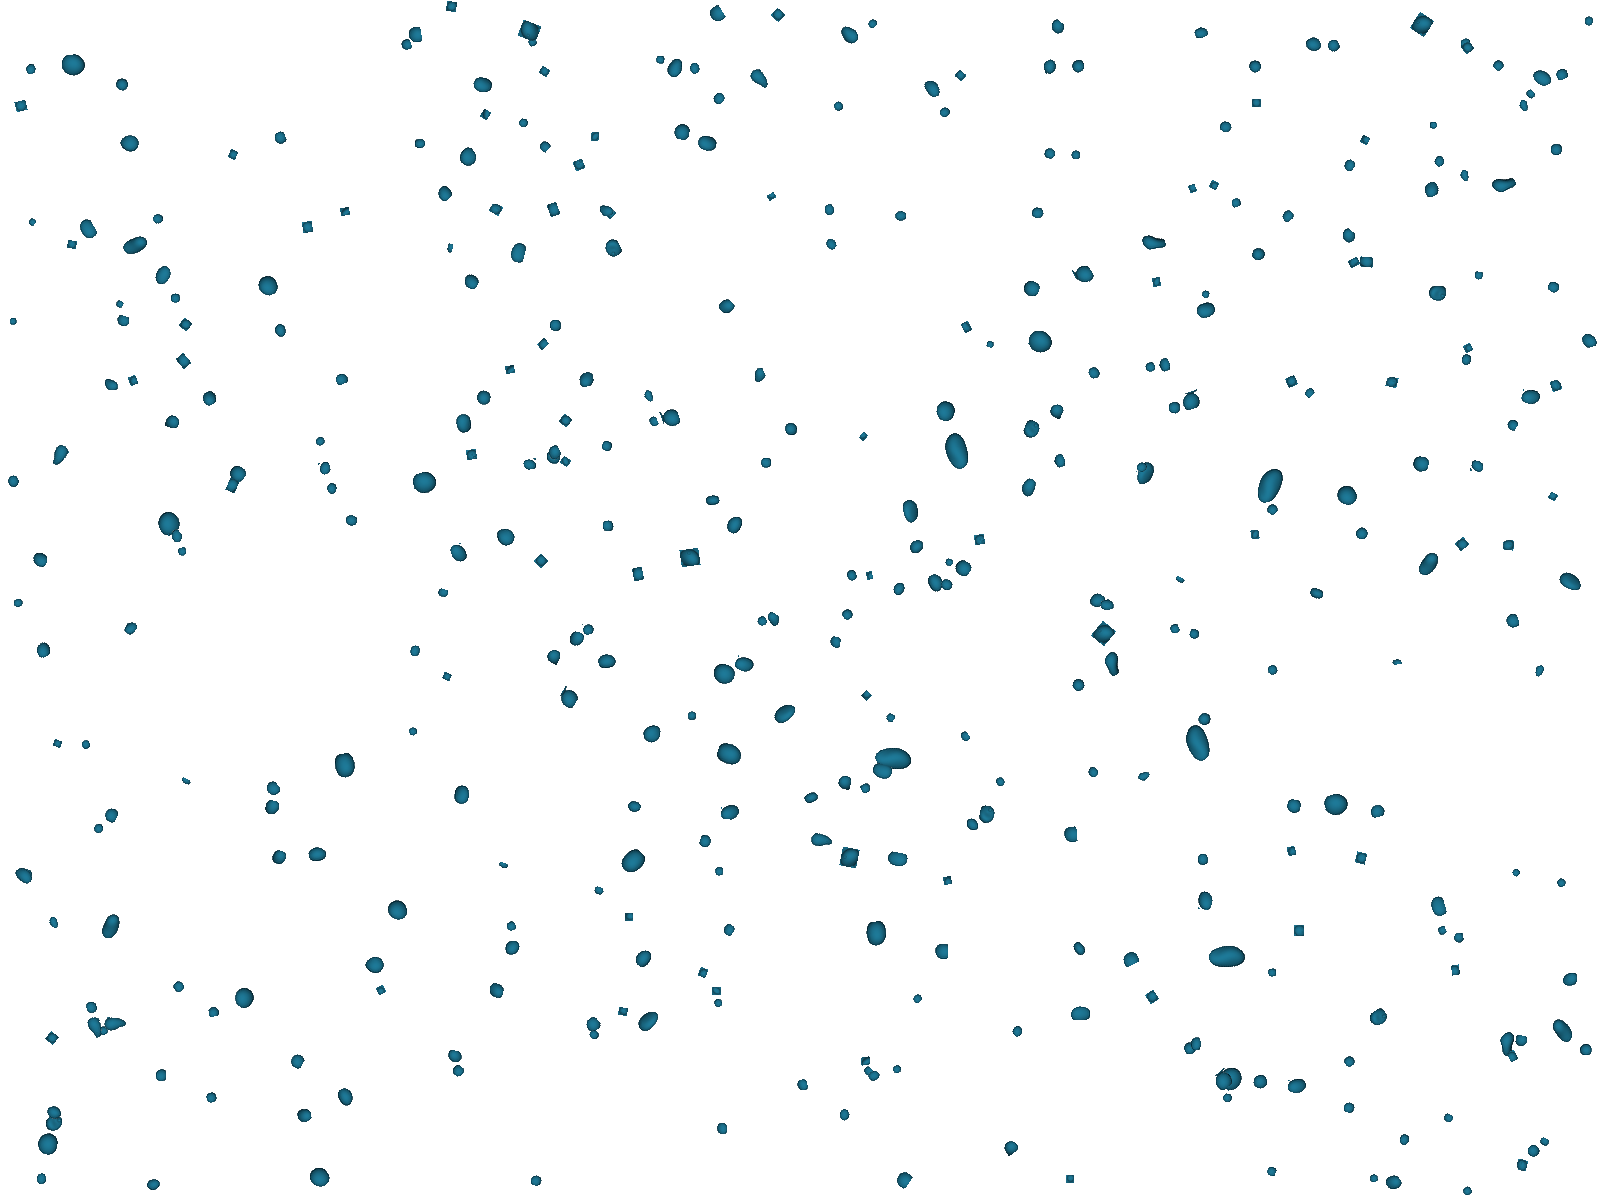drop: (1175, 720, 1220, 765), (934, 429, 979, 473), (1204, 935, 1250, 978), (872, 737, 916, 779), (1254, 466, 1286, 504), (120, 228, 154, 262), (617, 845, 649, 879), (1545, 1013, 1579, 1045), (1216, 1063, 1247, 1095), (154, 507, 185, 539), (228, 981, 260, 1012), (409, 468, 441, 498), (302, 1162, 334, 1192), (1322, 790, 1352, 821), (894, 495, 925, 526), (380, 895, 411, 925), (1330, 480, 1361, 511), (252, 271, 281, 300), (714, 740, 745, 768), (708, 661, 738, 688), (930, 396, 959, 424), (1417, 547, 1443, 579), (362, 950, 389, 978), (455, 144, 483, 171), (117, 129, 144, 158), (1100, 649, 1126, 678), (147, 262, 175, 289), (661, 54, 688, 82), (1090, 620, 1117, 647), (333, 751, 358, 780), (1489, 171, 1518, 197), (334, 1084, 360, 1111), (923, 570, 950, 596), (630, 944, 656, 971), (1209, 1066, 1236, 1093), (1409, 11, 1435, 38), (837, 21, 862, 49), (74, 216, 100, 243), (60, 53, 87, 78), (1529, 63, 1555, 89), (772, 701, 797, 727), (1133, 460, 1158, 487), (42, 1111, 67, 1137), (1364, 1006, 1391, 1031), (556, 684, 581, 711), (747, 66, 772, 92), (494, 524, 519, 550), (1071, 262, 1096, 287), (1497, 1030, 1519, 1058), (722, 511, 746, 536), (600, 234, 624, 260), (732, 652, 757, 676), (517, 19, 542, 43), (866, 920, 888, 947), (37, 1129, 59, 1156), (889, 1167, 913, 1191), (1117, 945, 1141, 969), (1558, 570, 1582, 594), (226, 463, 249, 487), (1020, 418, 1044, 442), (1017, 476, 1041, 500), (1028, 332, 1053, 354), (1193, 299, 1218, 321), (869, 761, 894, 784), (48, 442, 71, 468), (102, 911, 122, 939), (637, 1010, 660, 1034), (13, 863, 35, 887), (1179, 389, 1203, 412), (659, 406, 682, 430), (1426, 894, 1448, 919), (884, 850, 910, 871), (1140, 232, 1167, 252), (704, 4, 727, 26), (951, 557, 974, 580), (261, 778, 283, 800), (1337, 226, 1359, 248), (1046, 16, 1068, 39), (306, 842, 330, 863), (506, 239, 528, 263), (1519, 386, 1543, 407), (449, 541, 470, 565), (84, 1015, 105, 1040), (596, 649, 619, 671), (641, 724, 663, 746), (1087, 590, 1109, 613), (976, 804, 998, 827), (839, 846, 860, 868), (454, 411, 474, 435), (922, 76, 942, 100), (809, 831, 834, 850), (1020, 279, 1042, 300), (286, 1050, 307, 1071), (1303, 34, 1324, 55), (582, 1013, 603, 1035), (543, 442, 564, 464), (433, 183, 455, 204), (679, 547, 700, 568), (695, 134, 719, 153), (1196, 889, 1214, 913), (100, 804, 121, 824), (1579, 329, 1599, 350), (716, 296, 737, 316), (471, 76, 494, 95), (1245, 55, 1265, 76), (112, 74, 132, 95), (763, 610, 784, 630), (1250, 1071, 1270, 1092), (461, 272, 481, 292), (33, 640, 53, 661), (1383, 1172, 1403, 1192), (1286, 1076, 1308, 1095), (1070, 1003, 1092, 1021), (200, 388, 219, 408), (1502, 611, 1521, 632), (1196, 708, 1214, 729), (1352, 524, 1371, 545), (544, 645, 563, 666), (1002, 1137, 1020, 1157), (1070, 55, 1089, 76), (1041, 57, 1060, 77), (1426, 285, 1448, 303), (404, 26, 423, 45), (1060, 826, 1078, 845), (1411, 455, 1430, 474), (270, 848, 289, 867), (1368, 800, 1387, 819), (625, 797, 644, 816), (271, 321, 290, 340), (144, 1175, 163, 1194), (1180, 1039, 1199, 1058), (1070, 676, 1089, 695), (1523, 1141, 1542, 1160), (750, 366, 769, 384), (1070, 939, 1089, 958), (1047, 401, 1066, 420), (45, 1103, 64, 1122), (1422, 180, 1441, 199), (488, 981, 506, 1000), (454, 784, 470, 805), (889, 580, 908, 597), (16, 867, 35, 885), (449, 1063, 467, 1080), (1545, 279, 1563, 296), (271, 129, 289, 147), (1250, 245, 1267, 263), (936, 576, 955, 594), (931, 943, 949, 961), (295, 1107, 312, 1124), (446, 1049, 464, 1066), (168, 527, 185, 545), (1324, 37, 1342, 54), (711, 89, 728, 107), (1086, 364, 1104, 382), (1192, 24, 1209, 42), (1051, 453, 1068, 470), (1279, 207, 1296, 224), (597, 200, 615, 218), (1340, 1053, 1358, 1070), (1264, 500, 1281, 518), (31, 551, 49, 568), (568, 630, 586, 648), (1133, 458, 1150, 475), (1083, 764, 1101, 782), (175, 352, 191, 371), (1560, 971, 1579, 987), (333, 371, 351, 387), (1157, 355, 1173, 374), (721, 804, 740, 821), (837, 773, 853, 792), (105, 1017, 126, 1031), (673, 124, 690, 140), (1285, 798, 1301, 816), (113, 313, 131, 329), (535, 137, 553, 154), (122, 619, 139, 637), (1490, 57, 1507, 74), (164, 413, 181, 430), (1396, 1131, 1412, 1148), (1458, 350, 1474, 368), (1431, 153, 1448, 170), (341, 513, 359, 529), (866, 1066, 882, 1084), (1454, 536, 1470, 552), (170, 978, 186, 995), (721, 921, 737, 938), (698, 833, 714, 850), (839, 606, 855, 623), (598, 437, 615, 454), (936, 103, 952, 120), (1553, 66, 1570, 82), (1009, 1024, 1026, 1040), (823, 236, 839, 252), (1516, 97, 1532, 113), (1456, 166, 1473, 183), (991, 774, 1008, 790), (488, 200, 504, 217), (44, 1030, 60, 1046), (504, 940, 522, 955), (546, 200, 561, 218), (226, 476, 241, 494), (1308, 586, 1325, 601), (803, 790, 820, 805), (1144, 989, 1160, 1005), (770, 8, 786, 23), (533, 553, 549, 568), (546, 451, 562, 466), (1469, 459, 1485, 474), (317, 460, 333, 476), (84, 1000, 100, 1016), (1504, 416, 1519, 432), (1099, 597, 1115, 613), (1188, 1036, 1203, 1053), (1340, 158, 1357, 173), (476, 389, 491, 406), (150, 211, 166, 226), (586, 1027, 602, 1042), (821, 202, 837, 218), (47, 914, 62, 930), (1136, 768, 1151, 784), (10, 595, 26, 610), (965, 817, 980, 832), (1548, 142, 1563, 158), (503, 919, 518, 934), (753, 614, 769, 629), (1187, 626, 1202, 642), (1042, 146, 1057, 161), (1031, 205, 1046, 221), (1218, 118, 1233, 134), (398, 37, 413, 52), (103, 376, 118, 391), (204, 1090, 219, 1105), (860, 1064, 876, 1079), (957, 729, 973, 744), (1301, 384, 1317, 400), (265, 800, 280, 816), (784, 422, 799, 437), (1460, 1184, 1475, 1199), (78, 737, 93, 753), (91, 821, 106, 836), (831, 98, 847, 113), (5, 473, 20, 488), (687, 61, 702, 76), (893, 208, 908, 223), (641, 388, 656, 403), (312, 434, 328, 449), (889, 1061, 905, 1076), (1265, 662, 1280, 677), (178, 316, 193, 332), (1284, 374, 1299, 389), (558, 413, 573, 429), (1460, 40, 1475, 55), (631, 566, 645, 582), (522, 458, 538, 471), (858, 782, 874, 795), (1579, 1042, 1592, 1058), (154, 1066, 168, 1082), (548, 316, 562, 332), (1264, 1163, 1277, 1179), (1167, 621, 1180, 637), (96, 1024, 111, 1037), (174, 546, 189, 560), (581, 621, 595, 637), (1196, 851, 1209, 866), (910, 539, 923, 555), (580, 372, 593, 387), (1533, 663, 1547, 678), (711, 996, 724, 1011), (866, 16, 879, 32), (535, 337, 551, 350), (1550, 378, 1563, 393), (704, 494, 721, 507), (1354, 851, 1368, 865), (603, 207, 617, 221), (1167, 401, 1180, 415), (1230, 195, 1243, 209), (795, 1078, 809, 1092), (23, 62, 37, 76), (529, 1174, 543, 1187), (1342, 1100, 1356, 1114), (525, 35, 539, 49), (34, 1172, 48, 1186), (837, 1108, 850, 1122), (14, 100, 28, 113), (910, 992, 923, 1006), (1143, 361, 1157, 374), (1506, 1049, 1519, 1063), (1516, 1158, 1529, 1172), (1385, 376, 1398, 389), (572, 158, 586, 171), (1359, 256, 1374, 268), (648, 413, 660, 429), (845, 568, 858, 584), (697, 966, 709, 979), (479, 108, 493, 121), (601, 519, 615, 532), (760, 456, 774, 469), (1555, 876, 1569, 889), (1471, 270, 1484, 284), (413, 137, 427, 150), (325, 482, 338, 495), (517, 116, 530, 129), (960, 320, 973, 334), (1347, 256, 1361, 268), (301, 221, 314, 234), (407, 724, 420, 737), (1366, 1172, 1380, 1185), (1443, 1112, 1456, 1124), (227, 147, 239, 161), (954, 69, 968, 82), (445, 0, 459, 13), (973, 533, 986, 546), (559, 455, 572, 468), (860, 689, 873, 702), (208, 1005, 220, 1017), (716, 1122, 728, 1134), (1538, 1136, 1551, 1148), (1524, 88, 1537, 101), (1516, 1035, 1528, 1047), (1221, 1092, 1233, 1104), (1461, 342, 1474, 354), (884, 711, 897, 724), (1293, 924, 1305, 937), (1199, 287, 1212, 300), (1511, 866, 1523, 879), (538, 66, 551, 78), (436, 587, 450, 599), (1502, 539, 1516, 551), (127, 374, 139, 387), (339, 205, 351, 217), (504, 364, 517, 376), (441, 671, 454, 682), (1359, 134, 1371, 146), (1453, 932, 1464, 944), (829, 637, 842, 648), (593, 885, 605, 897), (1459, 37, 1471, 48), (26, 216, 38, 228), (113, 297, 125, 310), (1266, 967, 1277, 979), (654, 54, 666, 66), (1208, 179, 1220, 192), (1436, 924, 1448, 937), (409, 644, 421, 657), (944, 556, 955, 568), (169, 292, 181, 304), (1187, 183, 1198, 194), (858, 431, 869, 442), (52, 737, 63, 749), (375, 984, 387, 996), (1450, 964, 1461, 976), (466, 449, 477, 460), (1286, 845, 1296, 857), (714, 866, 724, 879), (66, 239, 78, 250), (180, 776, 193, 787), (1174, 575, 1187, 585), (1547, 492, 1558, 502), (711, 986, 722, 996), (1151, 276, 1162, 287), (590, 131, 600, 142), (766, 192, 777, 202), (687, 710, 697, 721), (1584, 15, 1594, 26), (1251, 98, 1262, 108), (498, 861, 510, 870), (860, 1056, 871, 1066), (1250, 529, 1260, 539), (985, 339, 995, 349), (1065, 1174, 1075, 1184), (1427, 120, 1437, 130), (866, 570, 874, 581), (624, 913, 634, 921), (9, 316, 18, 326), (1071, 150, 1081, 159), (619, 1007, 627, 1016), (944, 876, 952, 885), (447, 243, 454, 255), (1391, 659, 1402, 666)
